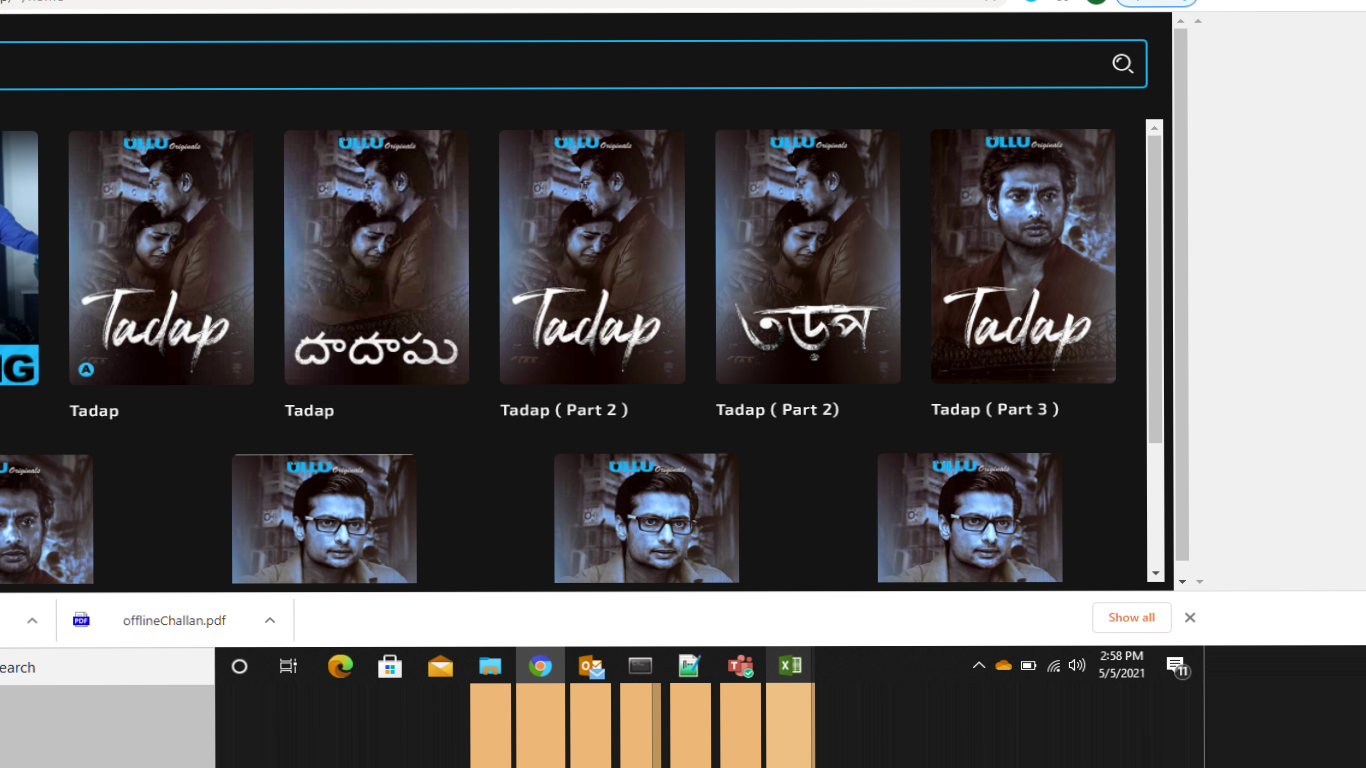searchicon: (1098, 46, 1140, 86)
searchtextbox: (7, 41, 1144, 105)
